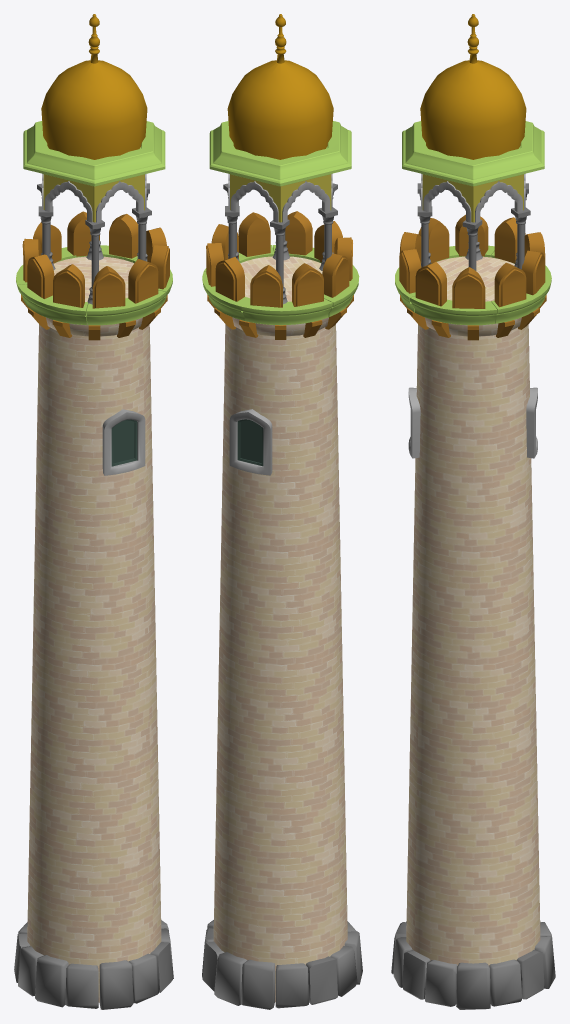
Rendered from SM_tower_castle_tall.fbx.
The picture shows the model from 3 angles, left to right: view 1: azimuth 30°, elevation 25°; view 2: azimuth 150°, elevation 25°; view 3: azimuth 270°, elevation 25°; orthographic projection.
Parts seen in each view (by area): view 1: Object32821; view 2: Object32821; view 3: Object32821.
Boxes of the visible parts, x1,y1,x2,y2 form: Object32821: (14, 14, 173, 1009); Object32821: (202, 14, 362, 1009); Object32821: (391, 14, 555, 1009).
Bounding box in the file's own units: 176 × 1145 × 177.
